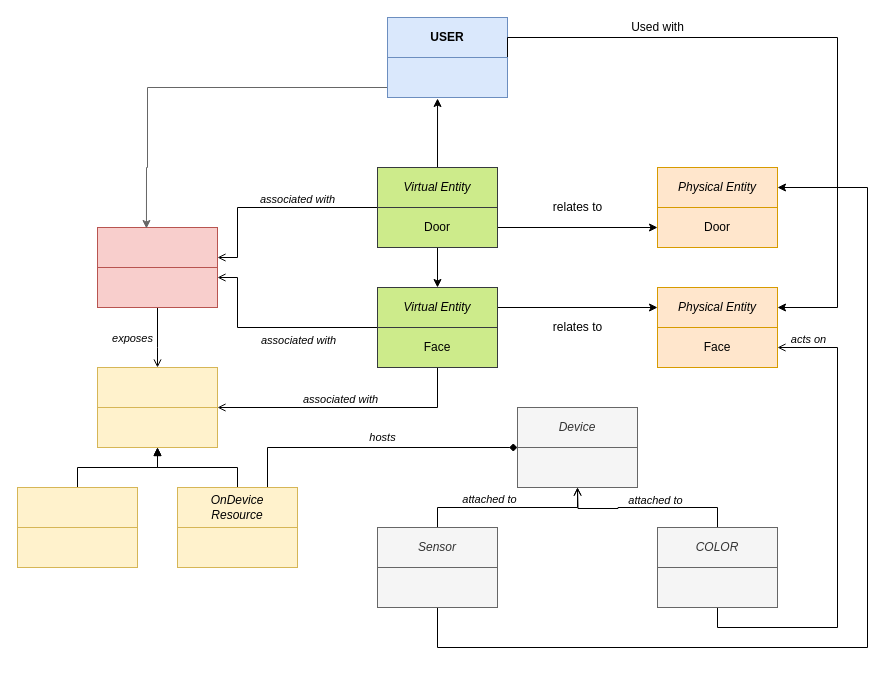
Image size: 893x673. Some labels were removed from this diagram. Each missing label, with the centre of its shape:
"Camera" goes at (x=437, y=587).
"Minicomputer" goes at (x=577, y=467).
"Network Resource" goes at (x=77, y=507).
"Resource" goes at (x=157, y=387).
"RGB" goes at (x=717, y=587).
"Service" goes at (x=157, y=247).
